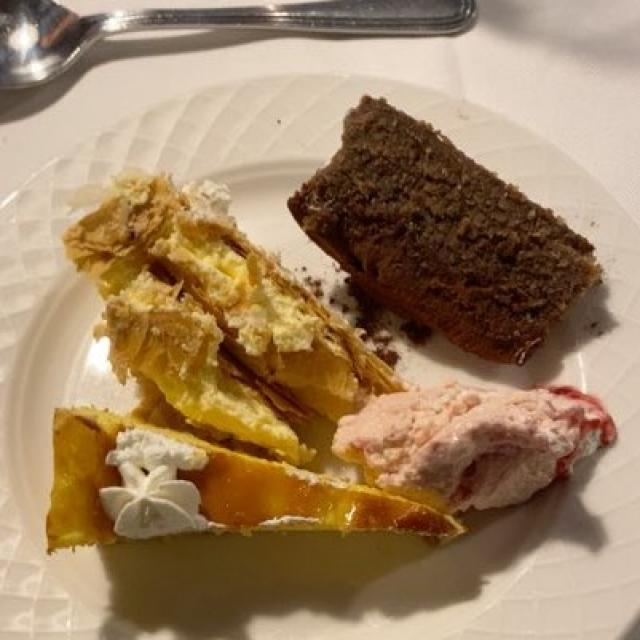cake: (298, 102, 593, 366)
pie: (48, 378, 470, 578)
